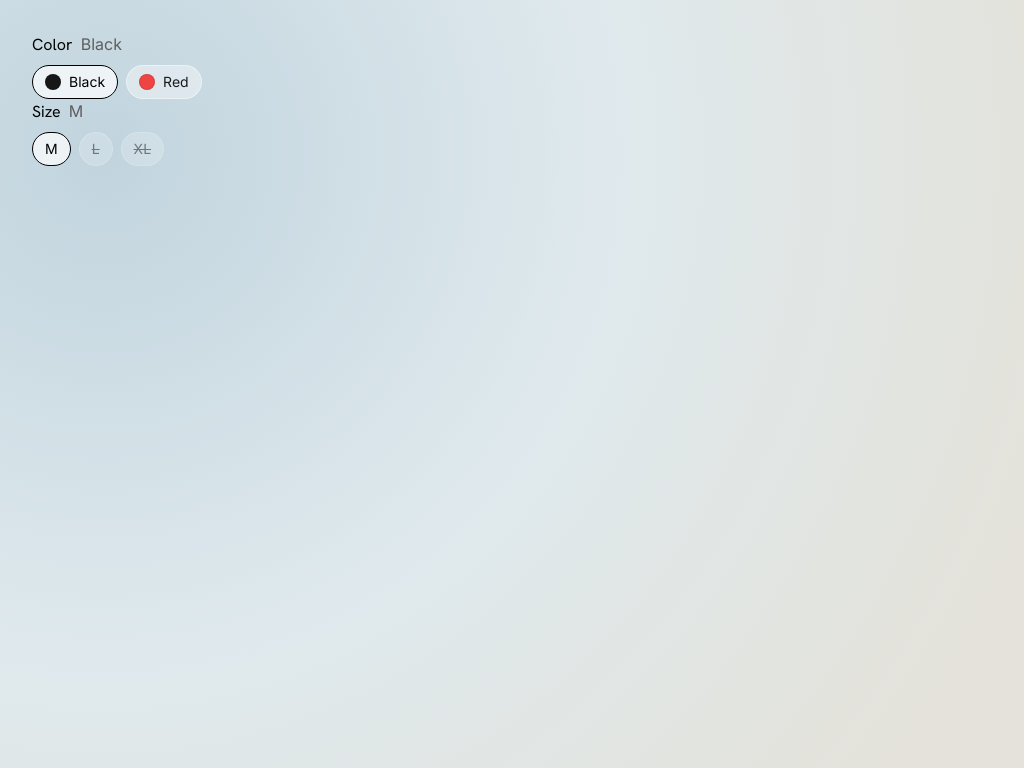
Test: VariantOptionPicker › keeps the size when another colour has it, and judges sizes against the new colour
The width and height of the screenshot is (1024, 768).
Click the button "Red" at (164, 82), box 126,65 -> 202,99
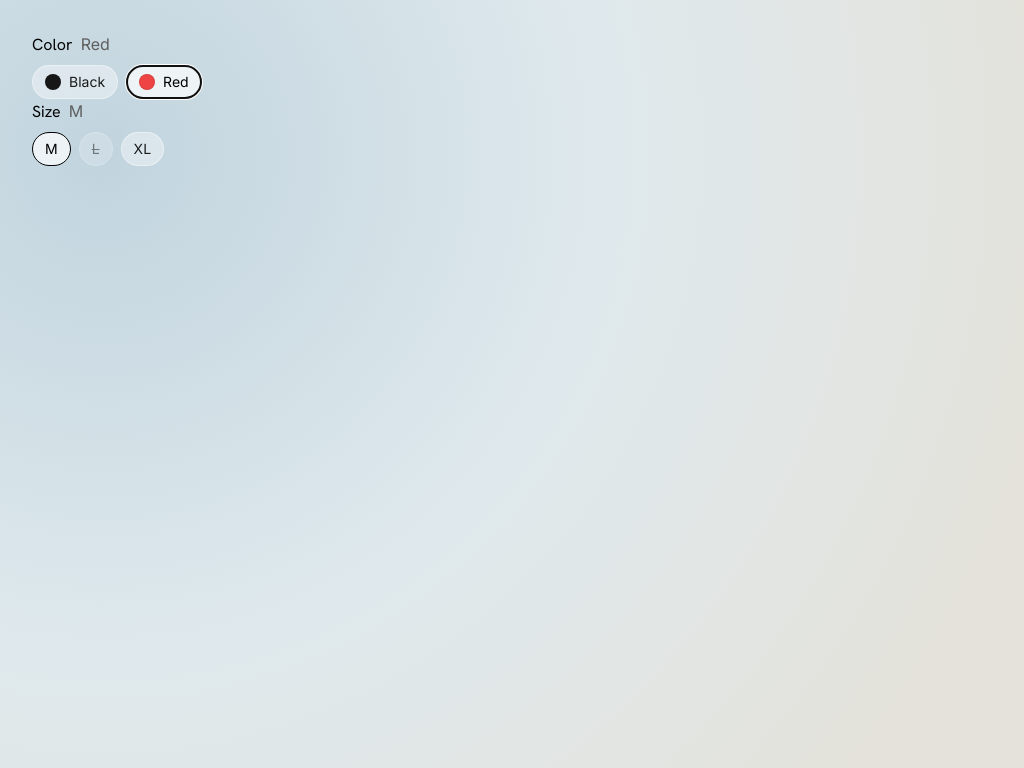
expect the element "Size M" is shown: met, box 32,101 -> 164,166
expect the element "Color Red" is shown: met, box 32,34 -> 202,99
